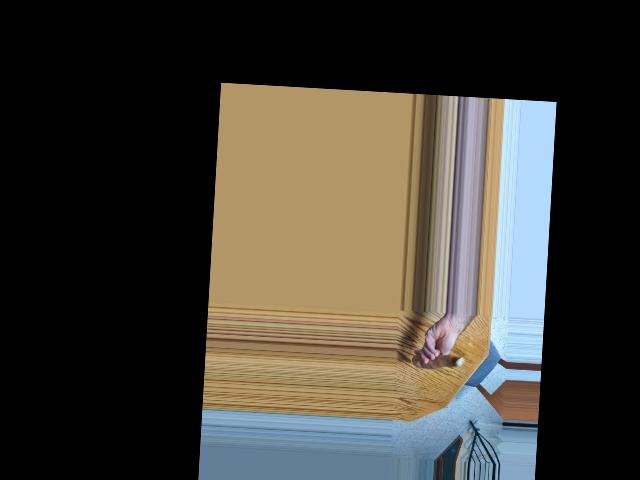sweet_potato: (413, 348, 465, 371)
